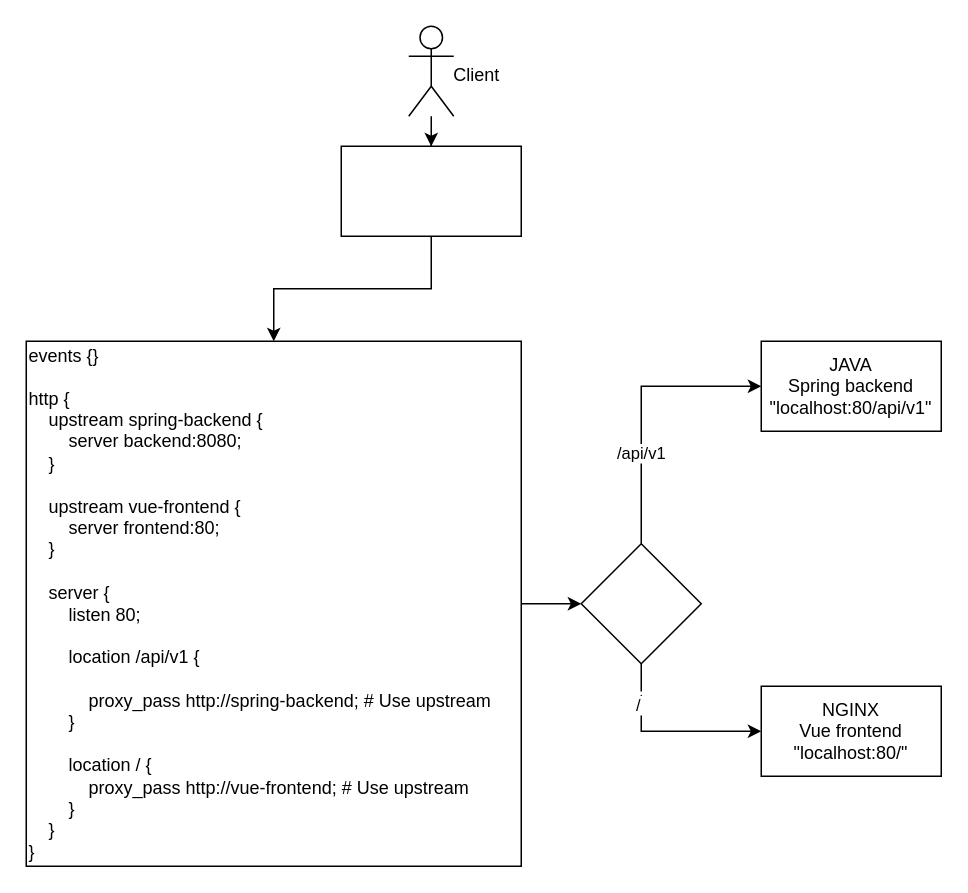
The diagram is 968 pixels wide and 893 high, and some of its shapes have lost their labels. Each missing label, with the centre of its shape:
if "/x": [640,603]
NGINX Reverse Proxy "localhost:80": [430,190]
